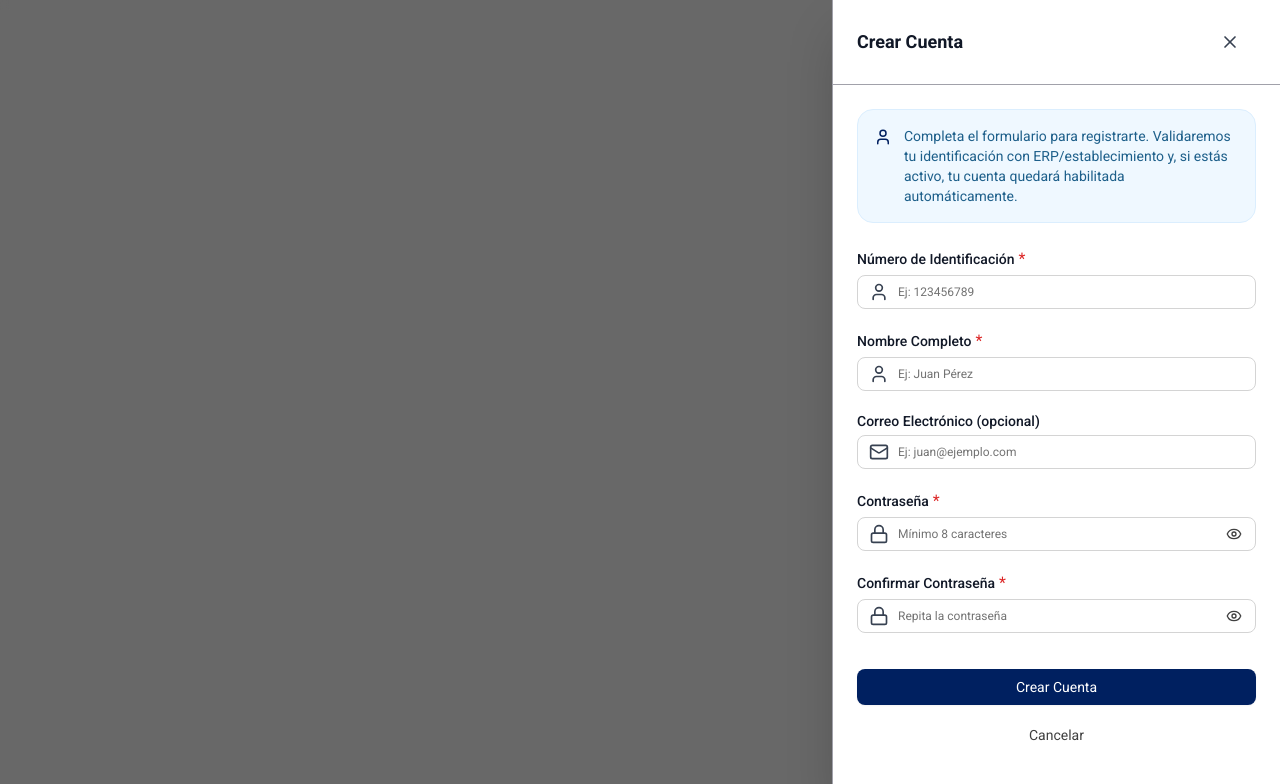
Test: RegisterSidebar › muestra mensaje específico para 403 sin detalle
In the field with placeholder "Ej: 123456789": [1056, 292] box [857,275,1256,309], type "123456789"
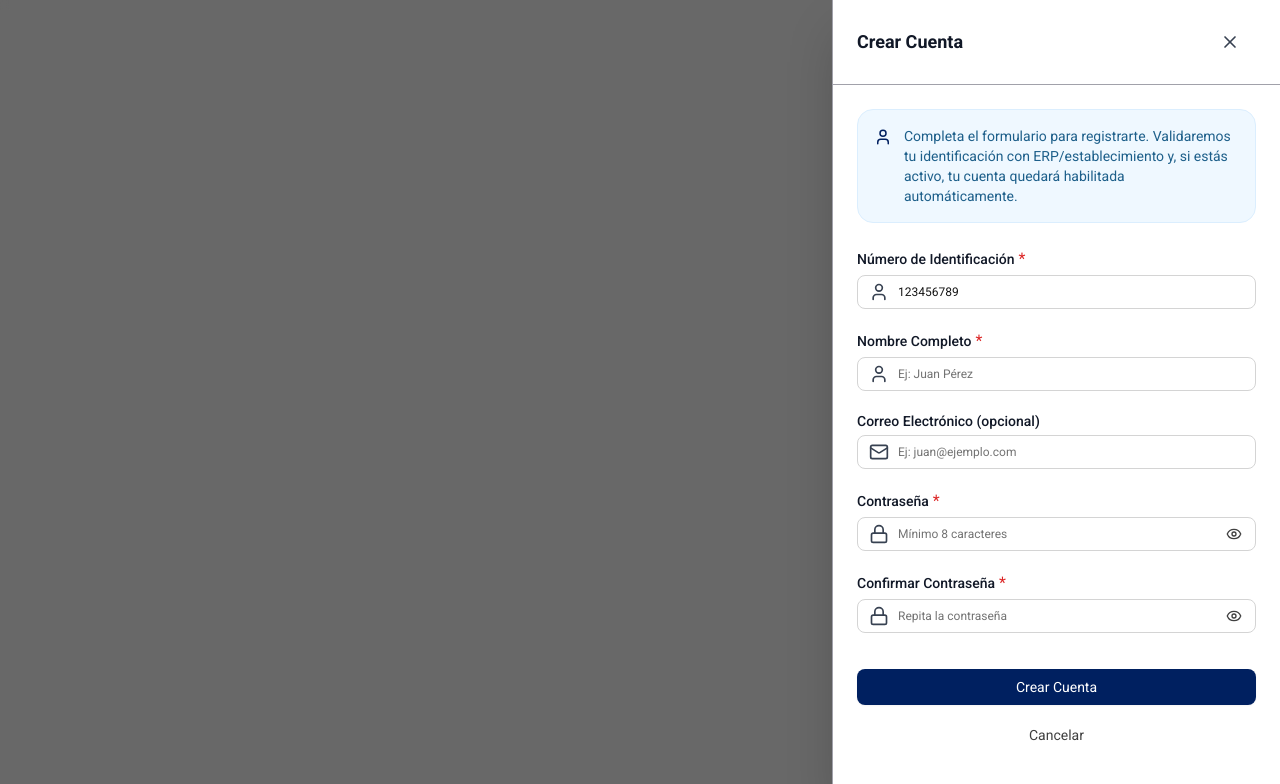
In the field with placeholder "Ej: Juan Pérez": [1056, 374] box [857,357,1256,391], type "Juan Pérez"
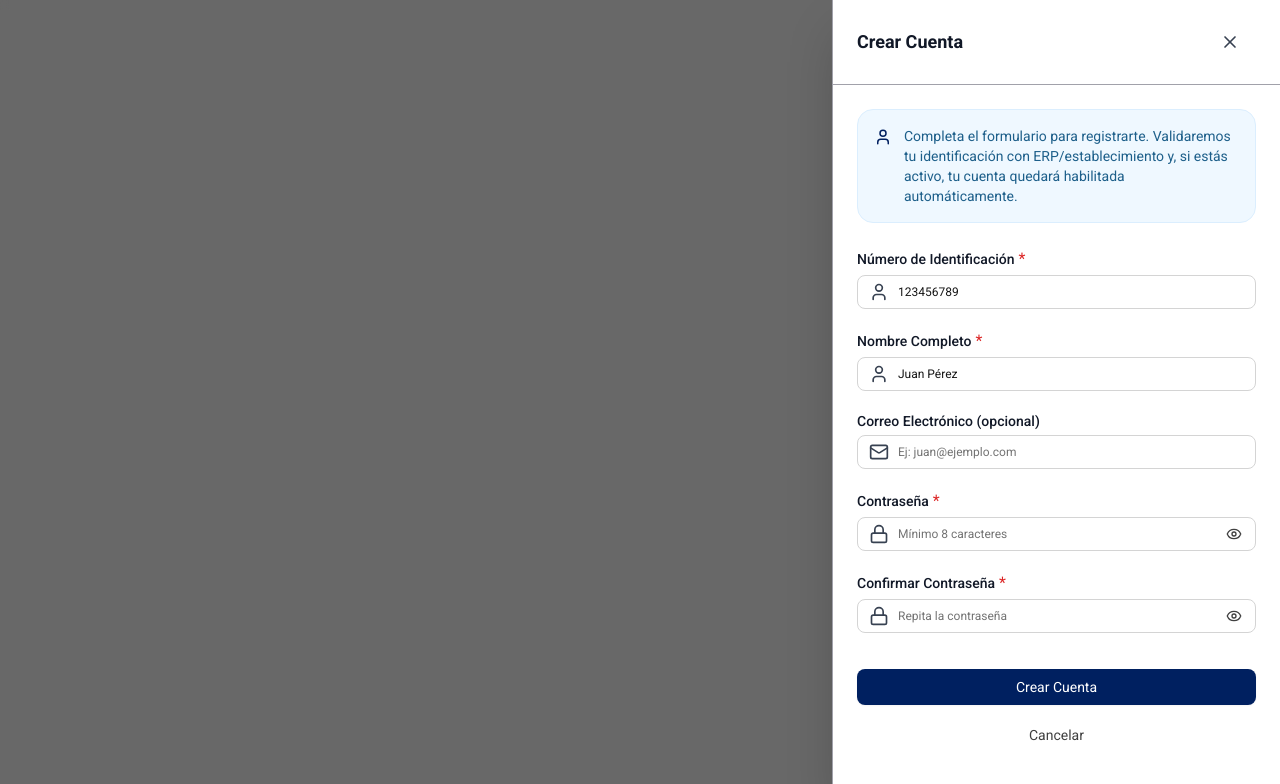
In the password field with placeholder "Mínimo 8 caracteres": [1056, 534] box [857,517,1256,551], type "ClaveSegura123"
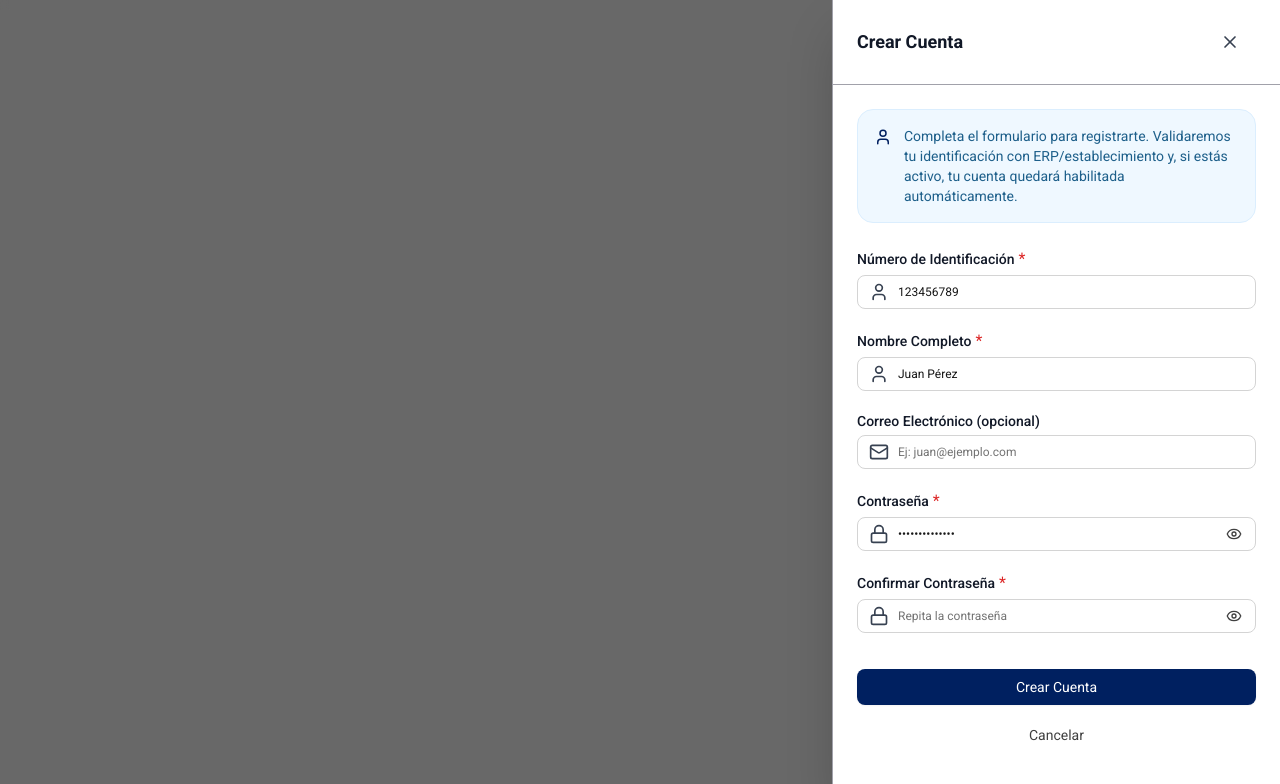
In the password field with placeholder "Repita la contraseña": [1056, 616] box [857,599,1256,633], type "ClaveSegura123"
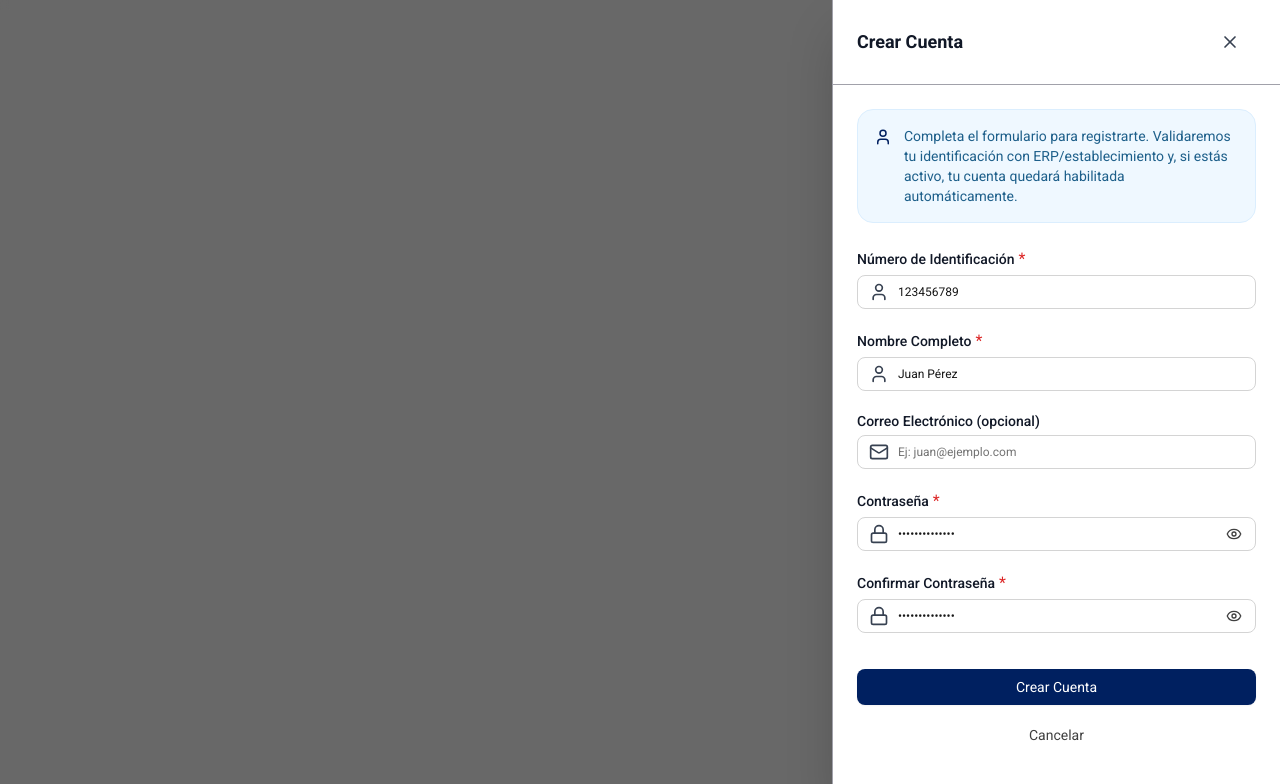
Click the button "Crear Cuenta": [1056, 687] box [857,669,1256,705]
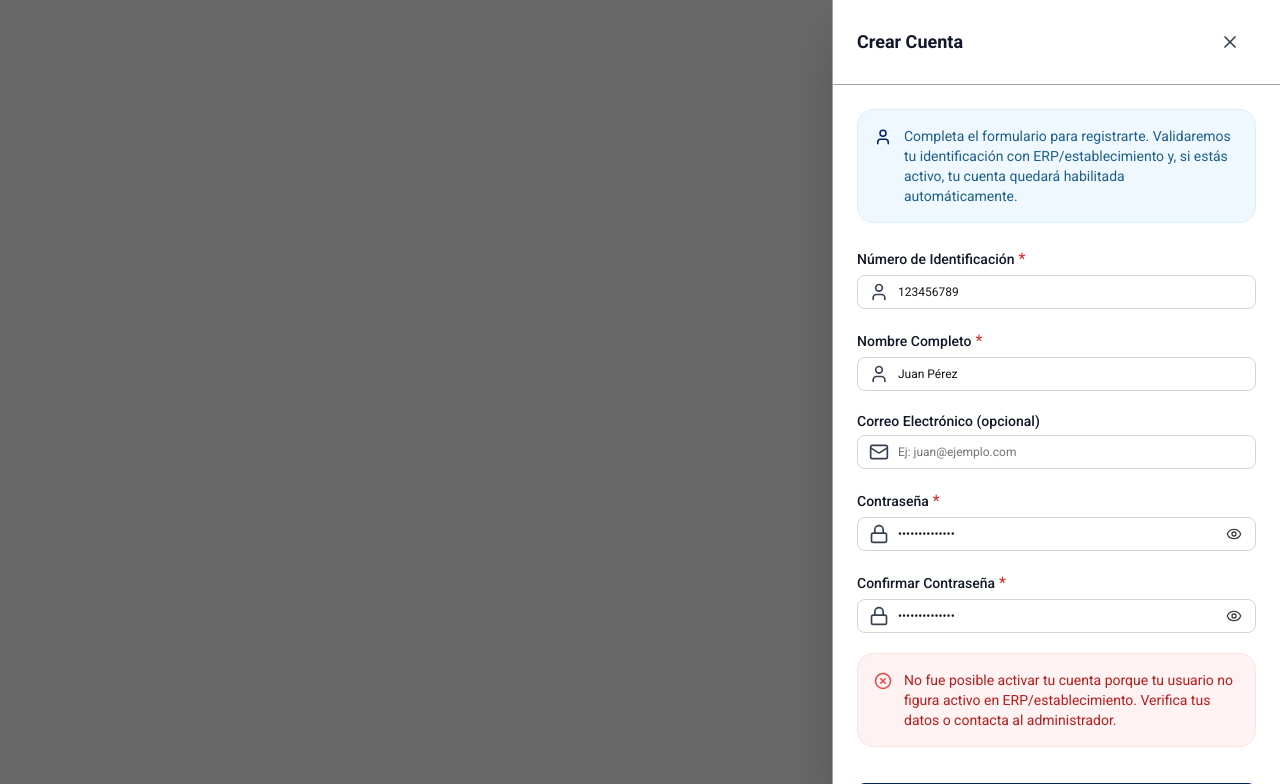
Expected: the message shows "No fue posible activar tu cuenta porque tu usuario no figura activo en ERP/establecimiento", [904,672,1233,728]
